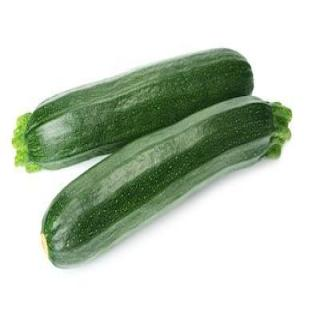Zucchini: (42, 96, 291, 267), (13, 50, 252, 171)
